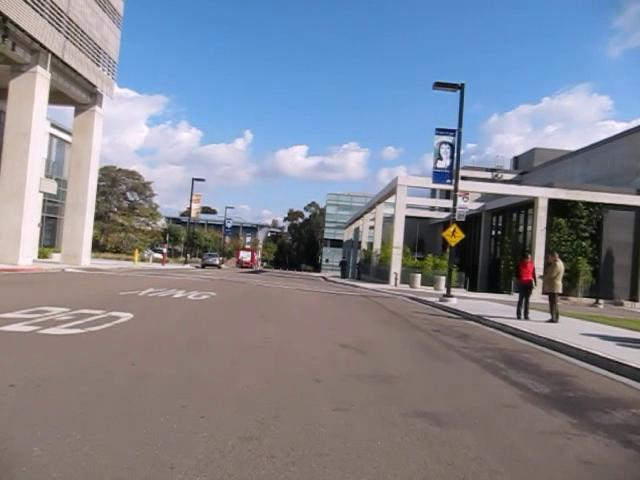pedestrianCrossing: (441, 221, 465, 247)
